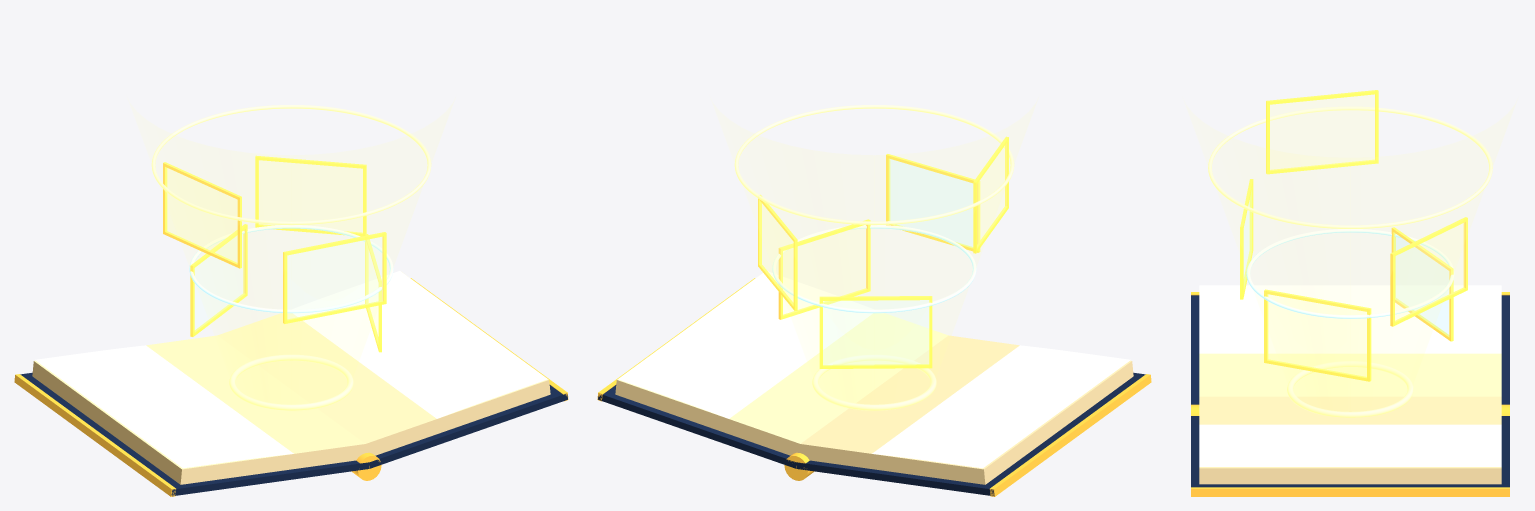
Rendered from holo-book.glb.
3 renders of one model, left to right at view 1: azimuth 30°, elevation 25°; view 2: azimuth 150°, elevation 25°; view 3: azimuth 270°, elevation 25°, orthographic.
Visible parts, largest first — view 1: PenGameBook, HoloBook; view 2: PenGameBook, HoloBook; view 3: PenGameBook, HoloBook.
Part boxes in pixels (x1,y1,x2,y2): PenGameBook: (14,271,568,496); HoloBook: (151,105,431,410); PenGameBook: (597,271,1151,496); HoloBook: (734,105,1014,410); PenGameBook: (1191,285,1509,496); HoloBook: (1208,90,1492,417).
Bounding box in the file's own units: 0.2997 × 0.2441 × 0.2182.
